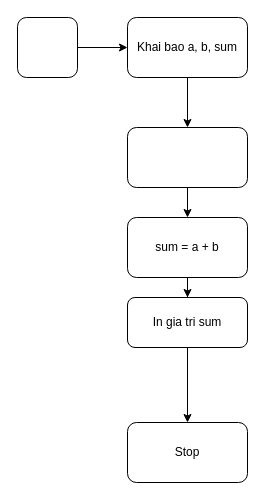
Some shapes in this 265 by 500 pixel diagram are drawn without their labels. Each missing label, with the centre of its shape:
Doc du lieu a va b: the point at 187,157
Start: the point at 47,47
